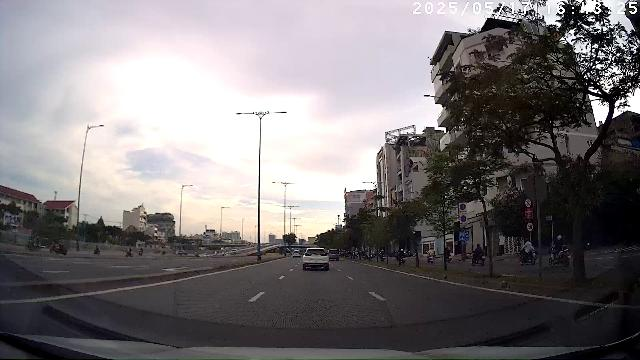127-toc-do-toi-da-50: (526, 222, 534, 231)
